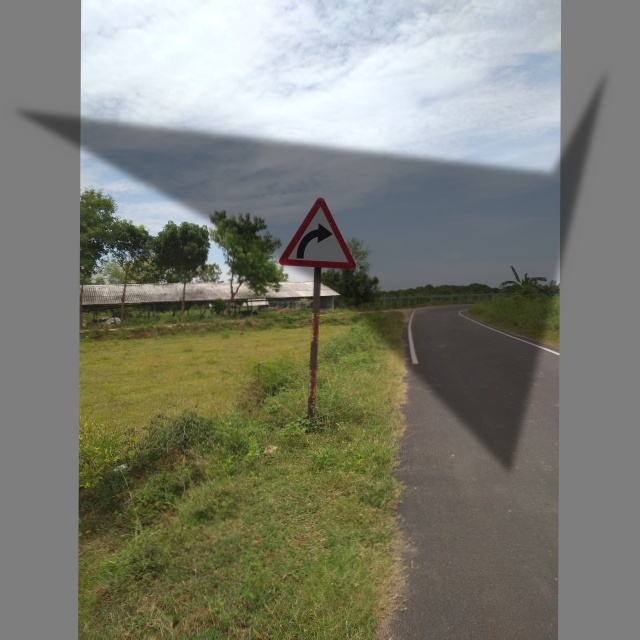Right_Hand_Curve: (279, 196, 354, 271)
